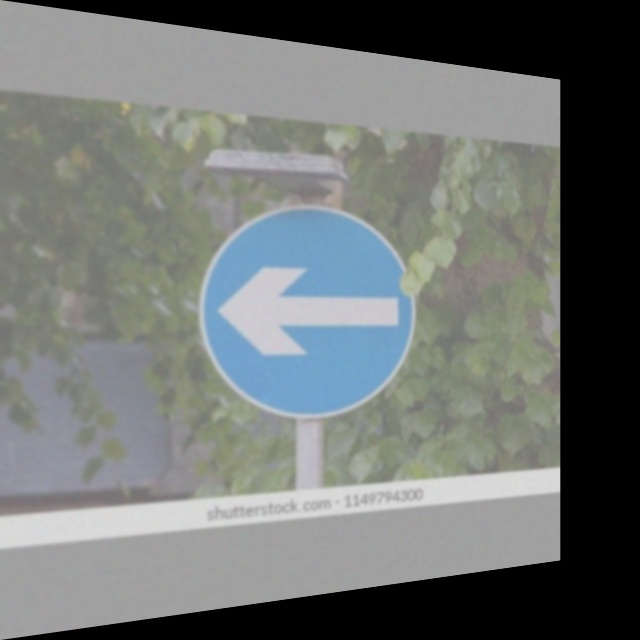Compulsory_Turn_Left: (203, 195, 413, 425)
